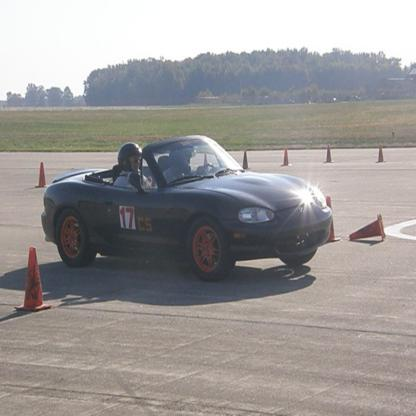Car: (40, 134, 333, 282)
